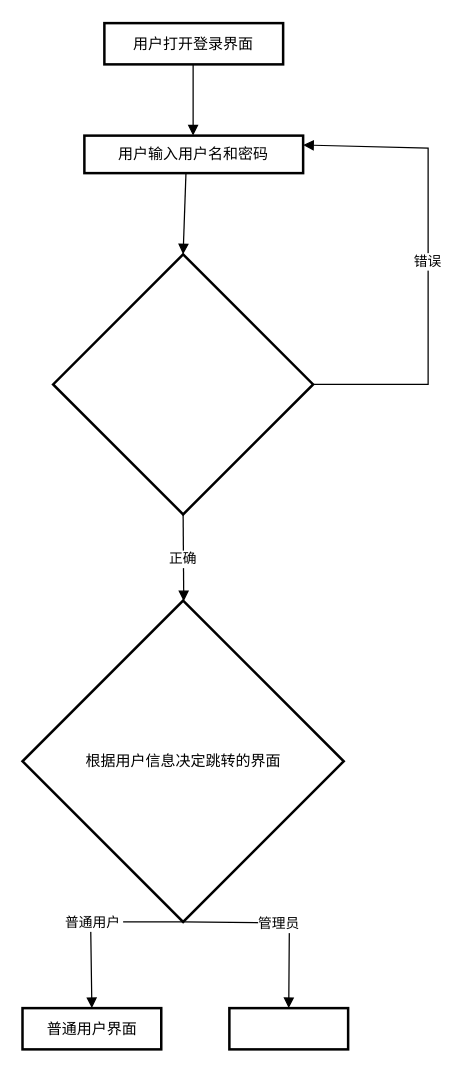
The diagram is 465 pixels wide and 1071 high, and some of its shapes have lost their labels. Each missing label, with the box of its shape:
管理员界面: (228, 1006, 349, 1050)
系统验证用户名和密码: (51, 252, 314, 515)
